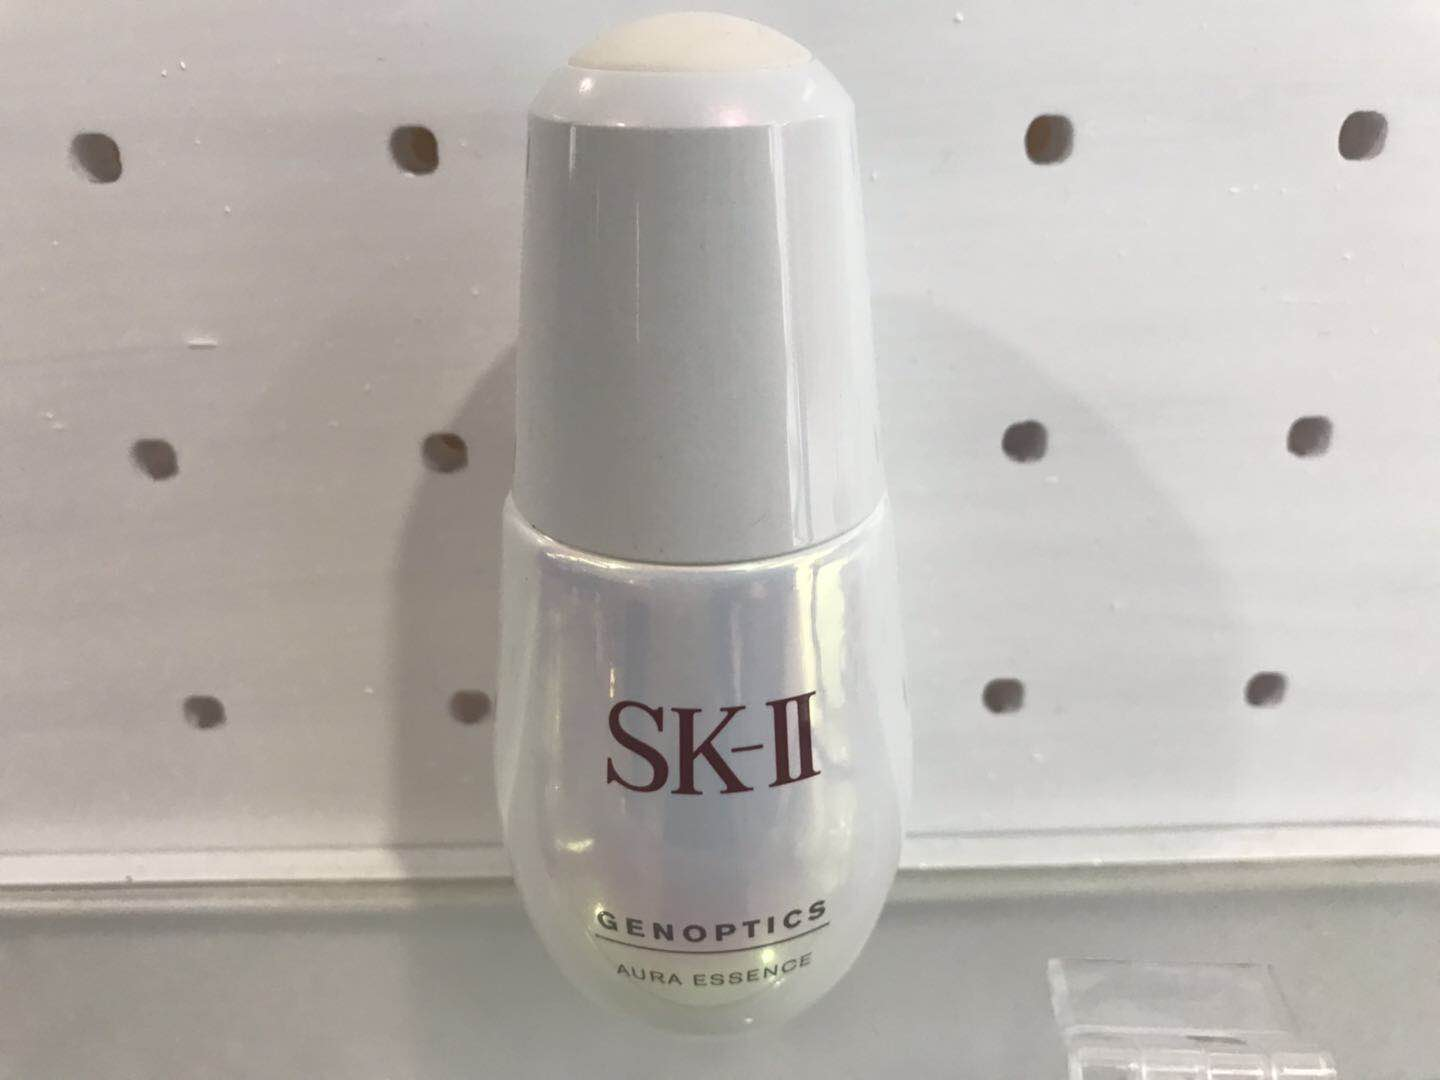sk2: (477, 6, 955, 1056)
